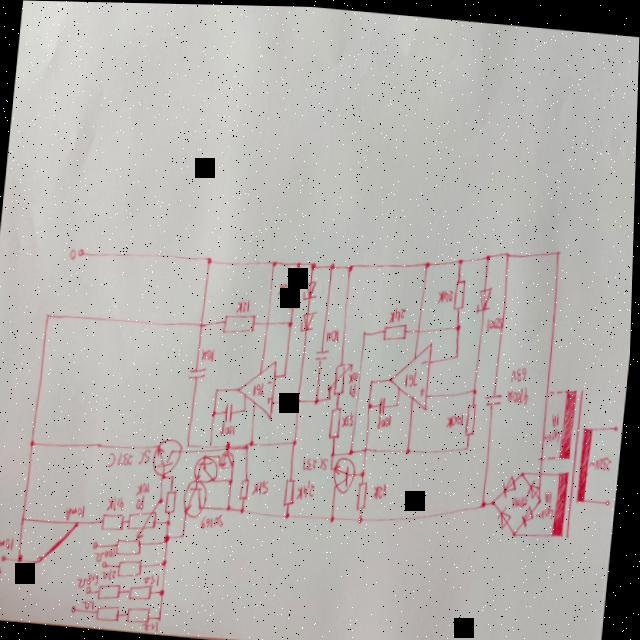capacitor: (485, 388, 505, 407), (189, 364, 209, 380), (225, 400, 237, 423), (379, 393, 390, 416), (315, 346, 331, 361)
crossover: (296, 395, 303, 403), (266, 317, 272, 325), (539, 467, 545, 474), (417, 325, 422, 332)
diode: (476, 283, 495, 314), (498, 502, 515, 530), (300, 307, 319, 332), (503, 471, 520, 496), (303, 277, 319, 300), (522, 502, 537, 526), (529, 475, 542, 497)
junction: (164, 531, 174, 543), (19, 553, 27, 563), (163, 556, 171, 566), (46, 310, 53, 321), (31, 439, 39, 448), (424, 259, 432, 268), (347, 262, 355, 271), (482, 498, 490, 507), (206, 255, 214, 264), (212, 407, 219, 417), (288, 317, 295, 327), (473, 384, 480, 394), (485, 250, 492, 260), (362, 467, 369, 477), (505, 248, 512, 258), (282, 370, 290, 378), (162, 472, 170, 480), (491, 496, 499, 504), (456, 321, 463, 330), (311, 260, 318, 269), (406, 445, 413, 454), (293, 436, 300, 445), (227, 502, 234, 511), (350, 446, 357, 455), (331, 513, 338, 522), (364, 444, 371, 453), (243, 404, 250, 413), (331, 448, 338, 457), (315, 395, 322, 403), (330, 260, 337, 268), (161, 588, 168, 596), (458, 255, 465, 263), (296, 259, 303, 267), (242, 505, 249, 513), (514, 528, 521, 536), (556, 246, 563, 254), (455, 351, 462, 359), (158, 614, 165, 622), (541, 452, 548, 460), (359, 515, 366, 523), (287, 510, 294, 518), (272, 258, 279, 266), (22, 515, 29, 523), (521, 468, 528, 476), (538, 493, 545, 501), (546, 386, 553, 394), (230, 476, 236, 485), (216, 384, 222, 393), (187, 441, 193, 450), (368, 400, 374, 408), (210, 441, 216, 449), (168, 517, 174, 525), (250, 437, 256, 445), (364, 328, 369, 336), (200, 320, 205, 327), (372, 376, 376, 383), (184, 530, 188, 537), (467, 442, 471, 449), (398, 399, 402, 406), (329, 392, 333, 399), (173, 473, 177, 479), (331, 465, 334, 469)
resistor: (128, 493, 166, 540), (222, 308, 258, 337), (329, 358, 355, 394), (117, 535, 146, 558), (328, 402, 345, 439), (98, 601, 124, 625), (384, 318, 409, 341), (452, 275, 468, 310), (102, 510, 127, 532), (120, 556, 145, 578), (130, 602, 155, 624), (357, 477, 372, 511), (131, 581, 156, 601), (466, 399, 479, 437), (289, 274, 303, 309), (101, 582, 124, 601), (285, 475, 298, 507), (166, 487, 180, 515), (241, 475, 254, 501)
switch: (34, 517, 114, 616)
terminal: (78, 247, 86, 256), (2, 553, 11, 561), (606, 496, 613, 504), (615, 422, 620, 429)
text: (106, 442, 155, 474), (506, 382, 532, 405), (304, 453, 331, 472), (297, 476, 318, 500), (203, 510, 227, 530), (590, 450, 614, 470), (66, 502, 88, 522), (510, 360, 530, 382), (0, 533, 18, 557), (78, 571, 102, 589), (95, 544, 118, 562), (375, 410, 395, 430), (253, 477, 272, 496), (487, 312, 506, 331), (538, 500, 557, 519), (390, 303, 408, 323), (373, 479, 391, 499), (545, 424, 563, 444), (109, 494, 128, 512), (447, 410, 466, 428), (436, 286, 455, 303), (512, 491, 532, 507), (326, 324, 342, 343), (405, 367, 421, 386), (342, 408, 357, 427), (143, 619, 163, 632), (236, 297, 252, 313), (145, 571, 162, 586), (137, 480, 152, 497), (201, 347, 217, 362), (221, 422, 238, 436), (278, 278, 292, 295), (102, 567, 119, 580), (253, 379, 266, 396), (84, 598, 98, 611), (349, 368, 361, 383), (138, 492, 147, 511), (349, 380, 359, 397), (545, 487, 555, 504), (552, 409, 562, 424), (0, 562, 5, 585), (419, 384, 427, 396), (69, 247, 77, 259), (267, 394, 274, 403), (423, 357, 429, 363), (268, 378, 273, 385)
transformer: (551, 383, 601, 542)
transistor: (153, 436, 187, 479), (183, 475, 213, 518), (333, 455, 359, 493), (195, 451, 221, 484), (221, 449, 237, 468)
